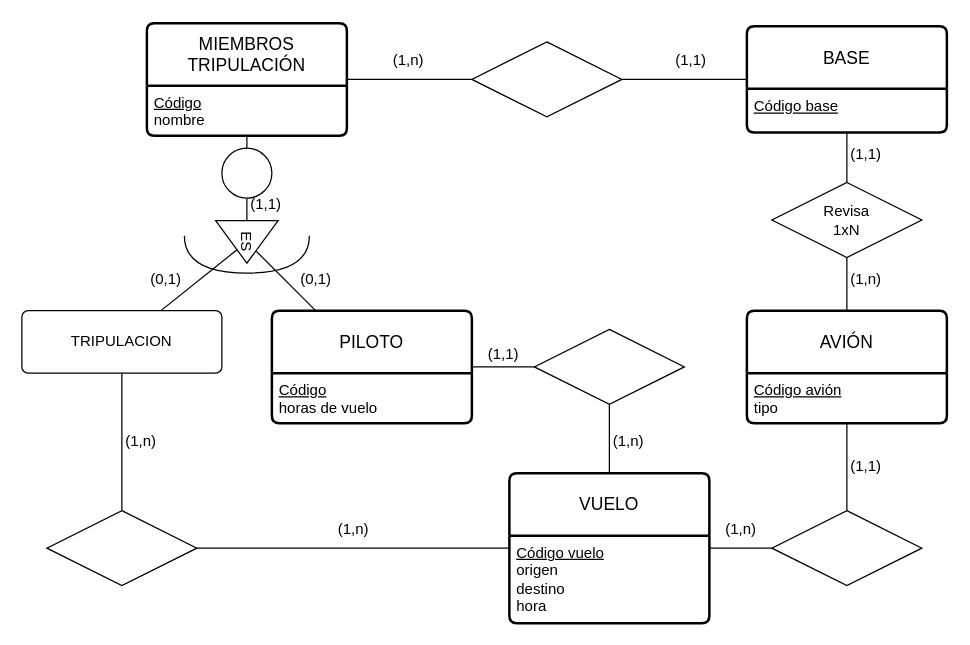
The diagram is 970 pixels wide and 645 high, and some of its shapes have lost their labels. Each missing label, with the centre of its shape:
Pilota 1xN: point (608, 366)
Regresan 1xN: point (546, 79)
Tiene 1xN: point (846, 547)
Trabajan NxM: point (121, 547)
